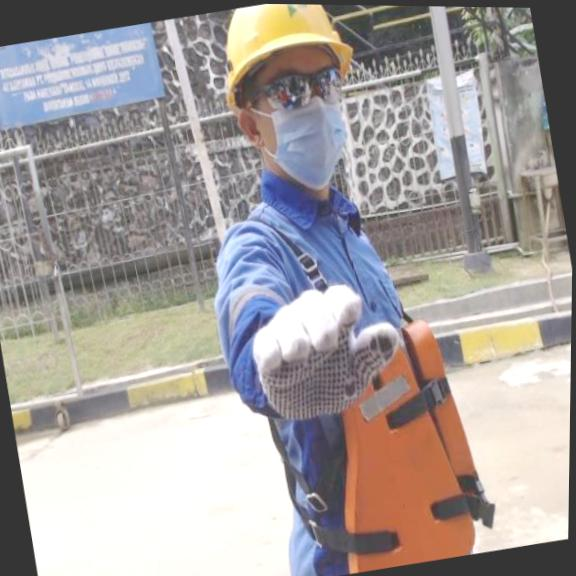safety_vest: (306, 310, 502, 576)
